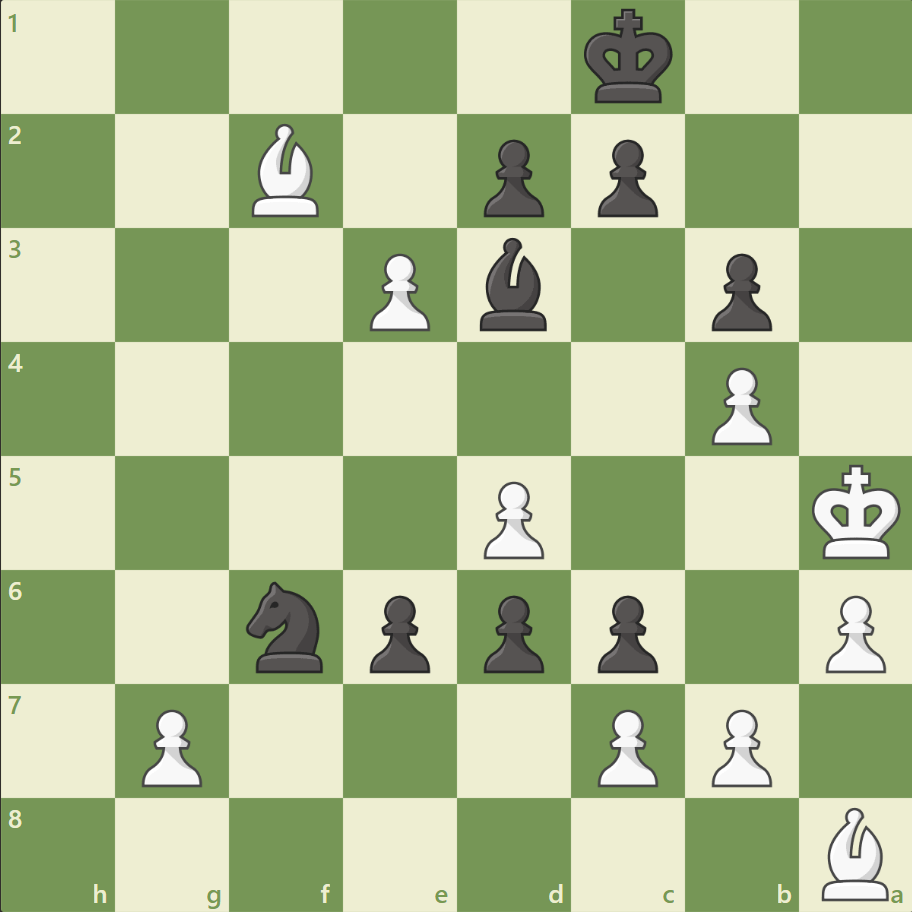B: (812, 801, 896, 904), (244, 120, 328, 222)
K: (806, 458, 906, 566)
P: (701, 700, 776, 791), (133, 700, 208, 791), (474, 473, 549, 564), (701, 359, 776, 450), (588, 700, 662, 791), (815, 586, 889, 677), (361, 246, 435, 337)
b: (471, 233, 555, 336)
k: (579, 4, 679, 112)
n: (238, 575, 335, 677)
p: (474, 586, 549, 677), (701, 246, 776, 337), (474, 132, 549, 223), (588, 586, 662, 677), (361, 586, 435, 677), (588, 132, 662, 223)
